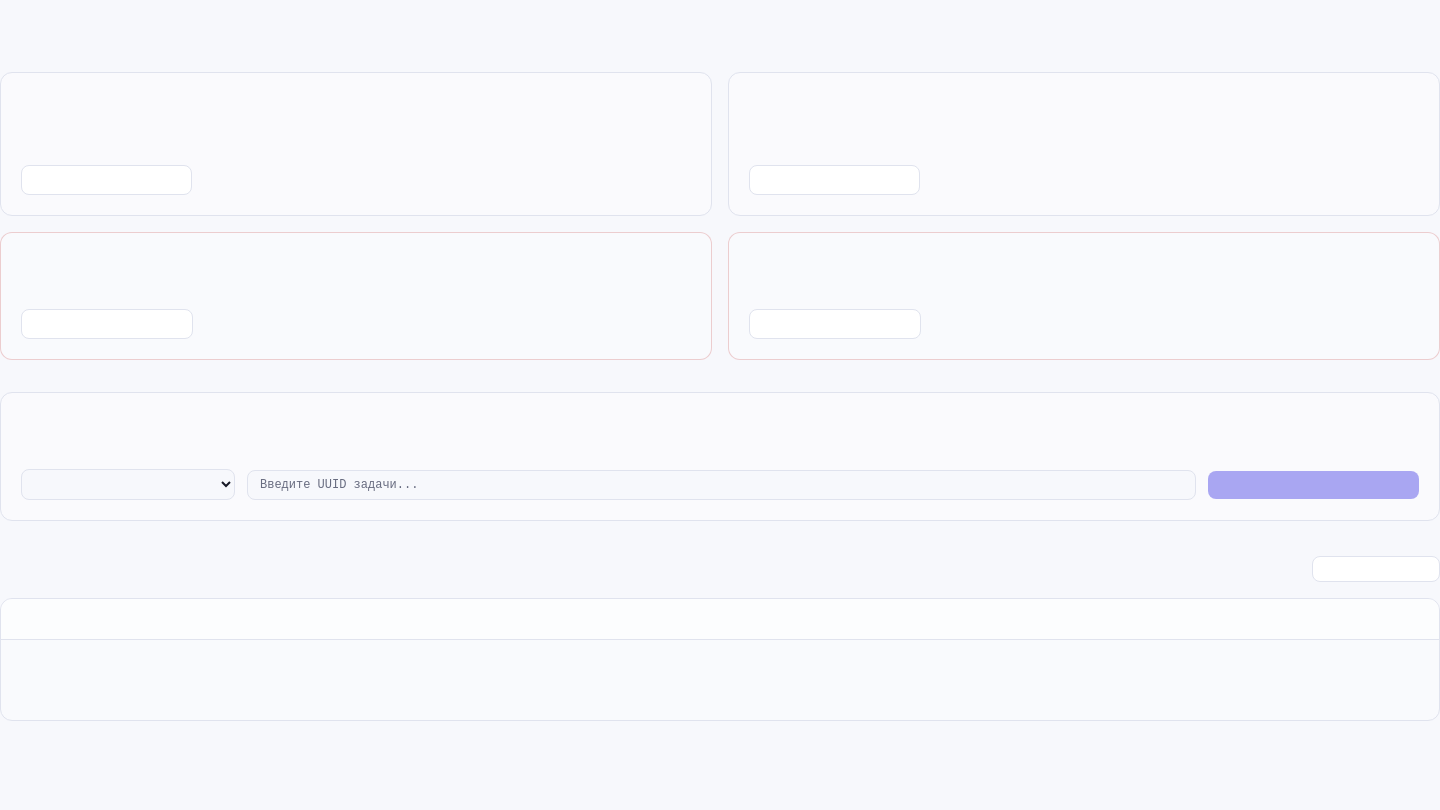
Test: admin OperationsTab › shows the refusal in the admin's language, never the raw detail
In the field with placeholder "Введите UUID задачи...": (722, 484) [247, 470, 1196, 500], type "0f5e7c1a-2b3d-4e5f-8a9b-0c1d2e3f4a5b"
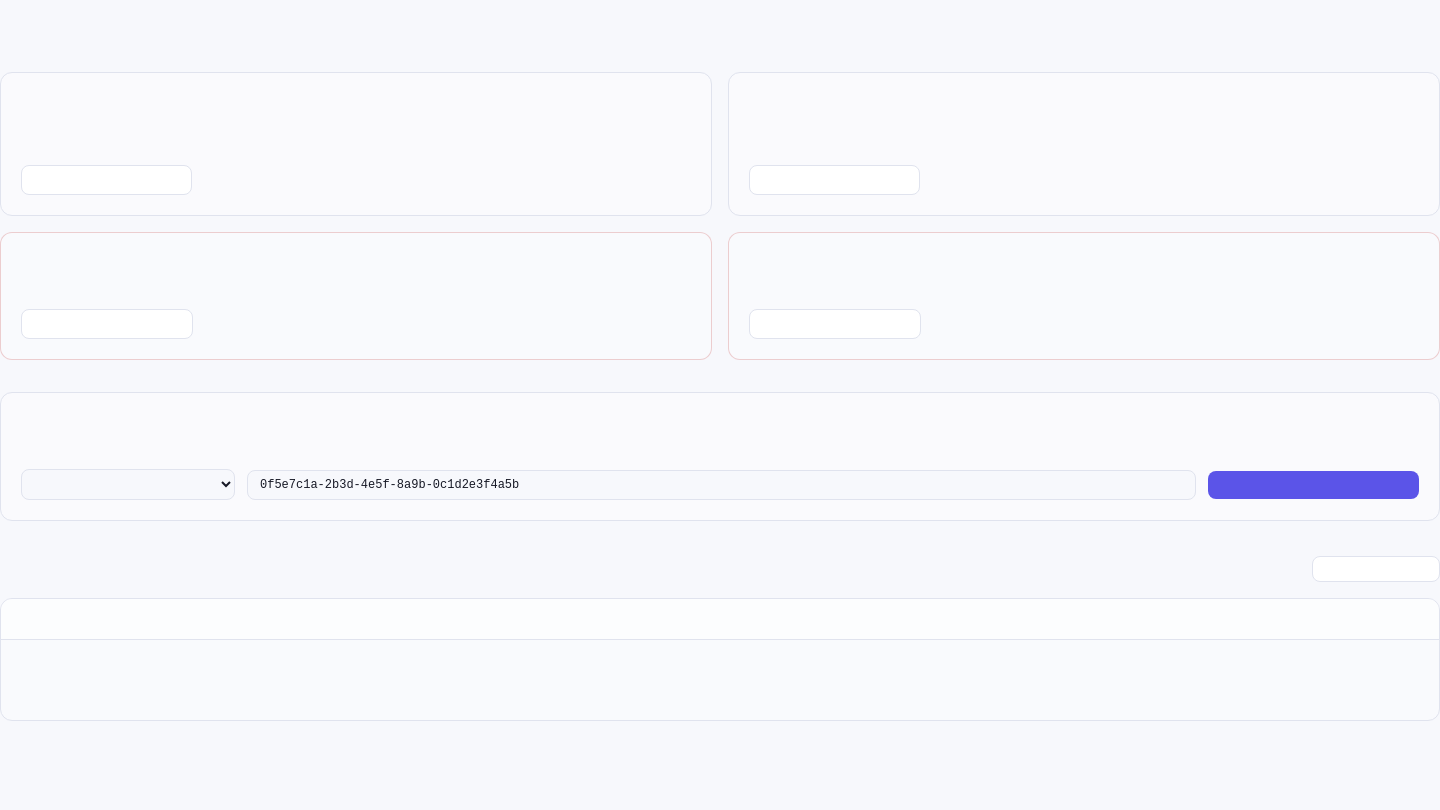
Click the button "Предпросмотр и перезапуск": (1314, 484) [1208, 470, 1419, 498]
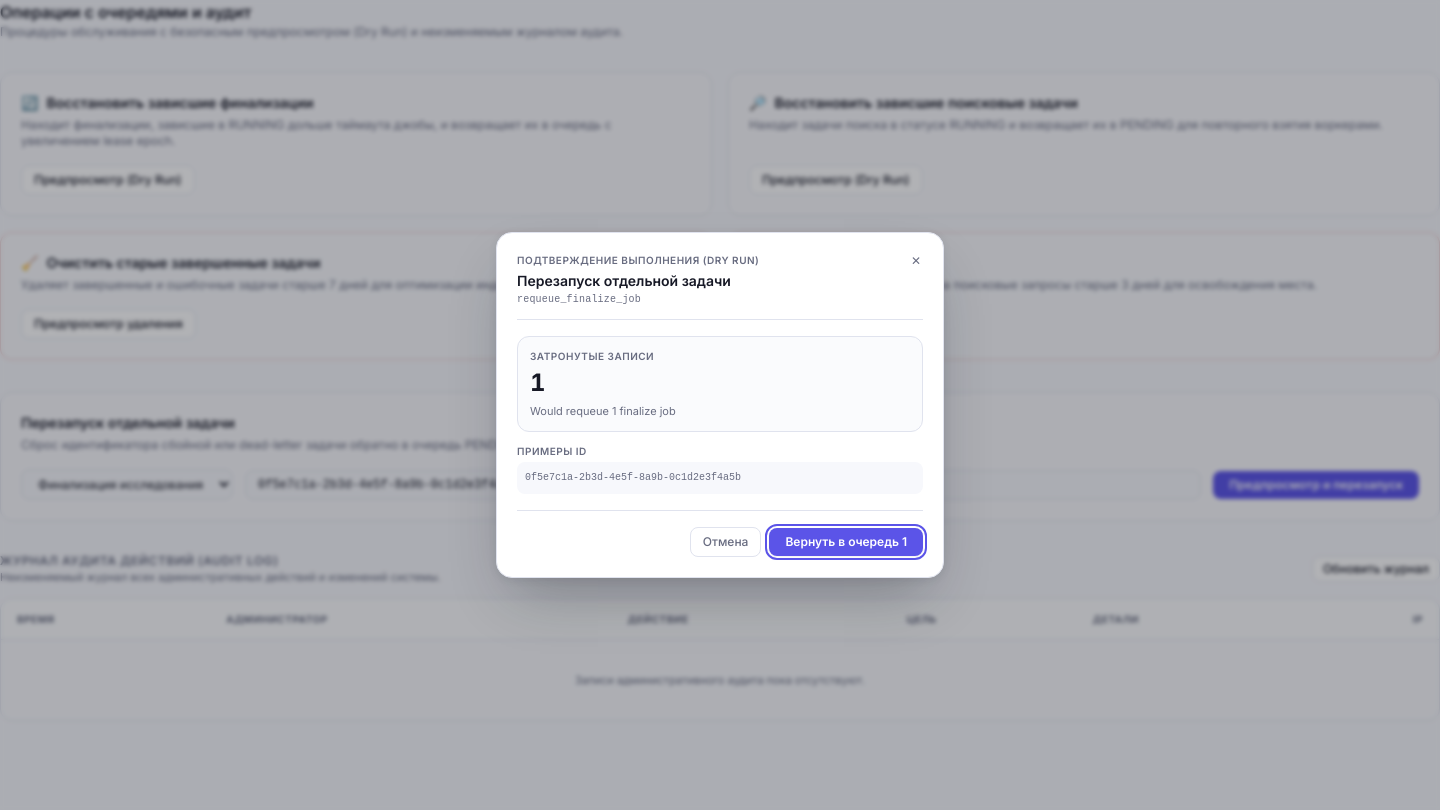
Click the button with test id "confirm-op": (846, 542) [769, 528, 923, 556]
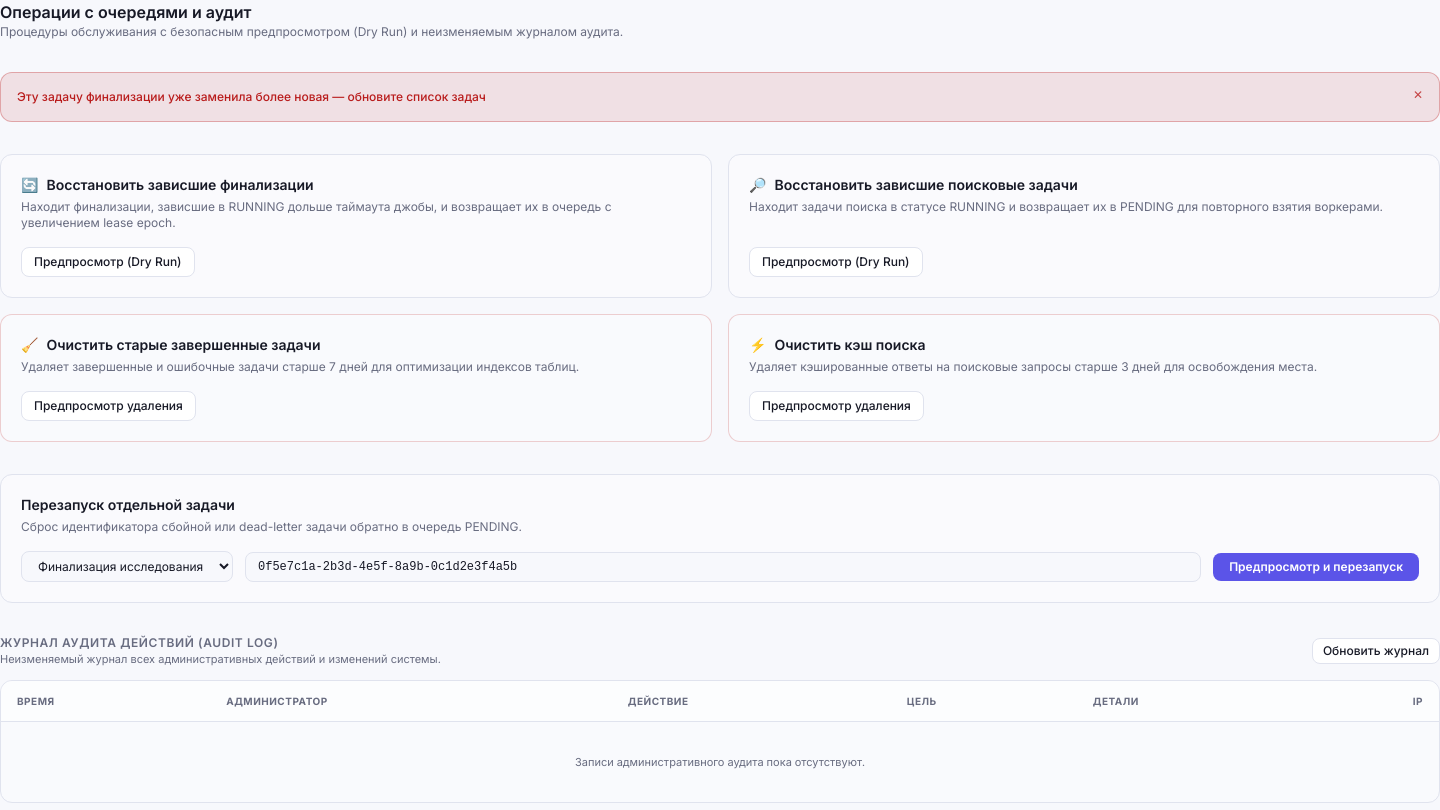
Expected: the text "Эту задачу финализации уже заменила более новая — обновите список задач" is shown, [17, 89, 486, 105]
